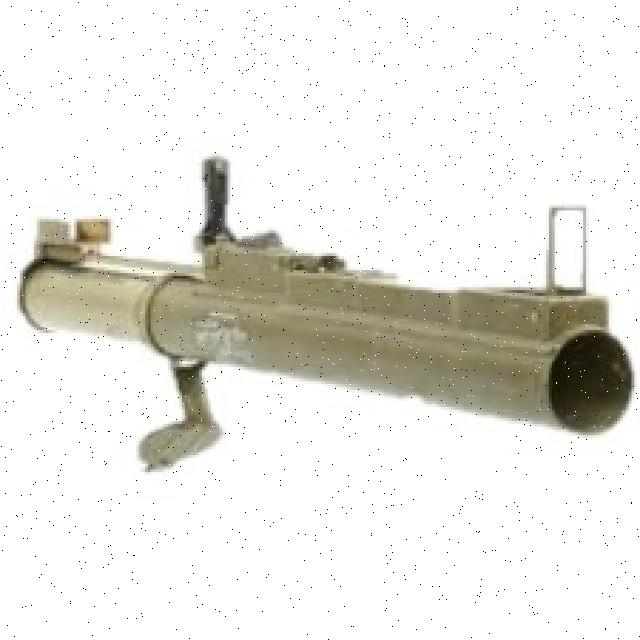bazooka: (14, 145, 640, 489)
